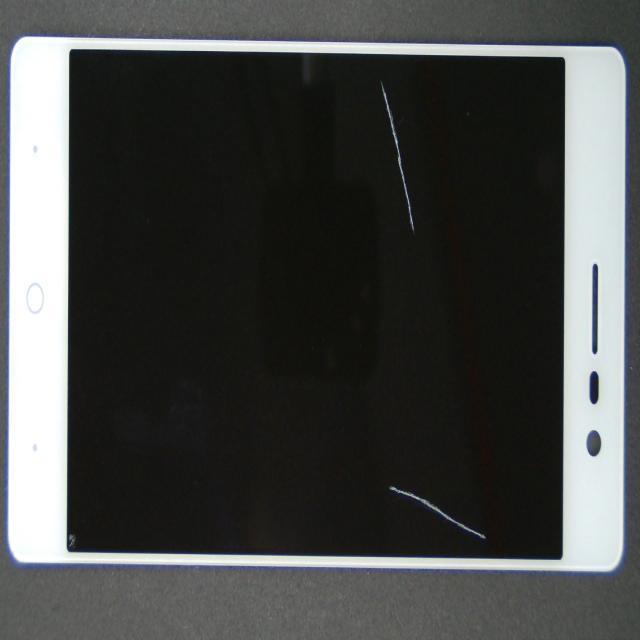scratch: (380, 77, 416, 237), (391, 488, 489, 542)
